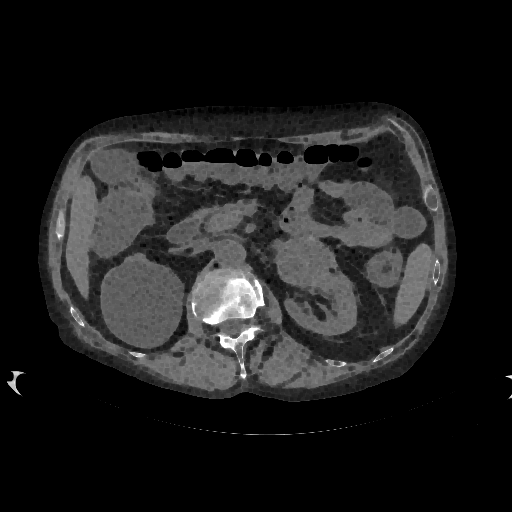Lesion: (273, 232, 339, 287)
